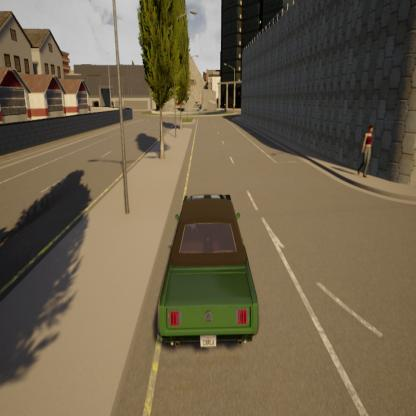Cars: (150, 166, 285, 377)
Pedestrian: (349, 104, 379, 197)
